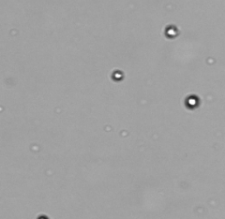Living Cell: (186, 94, 199, 109), (165, 26, 178, 38), (112, 70, 124, 81)
